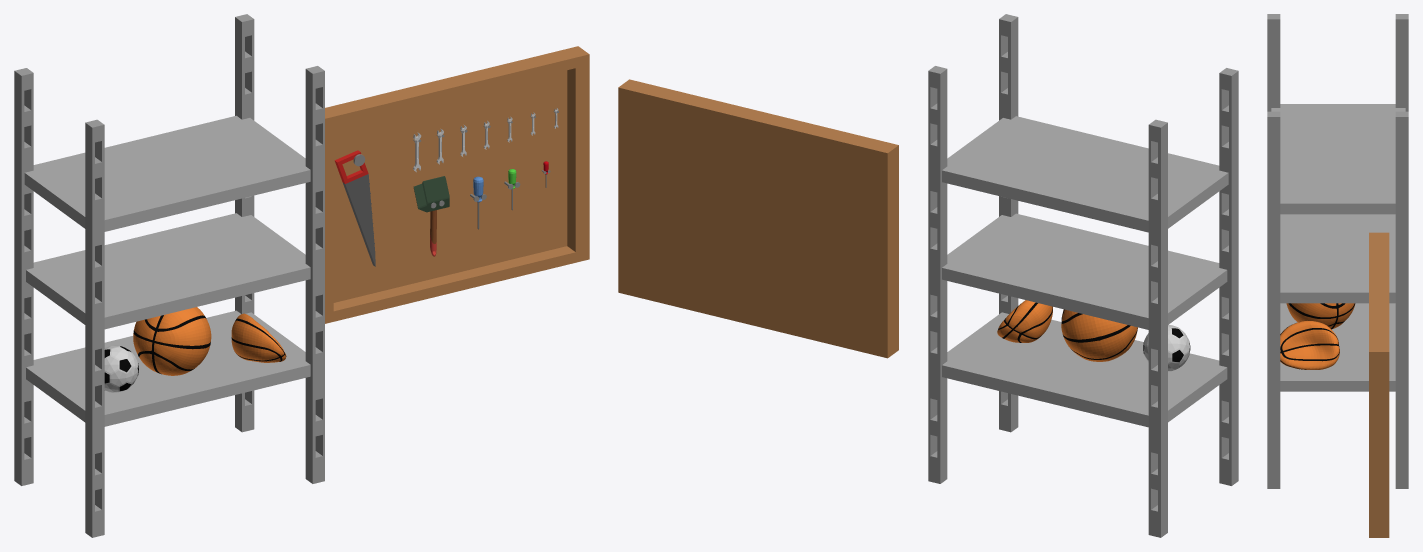
Rendered from Garage.fbx.
3 views of the same model, side by side, from view 1: azimuth 30°, elevation 25°; view 2: azimuth 150°, elevation 25°; view 3: azimuth 270°, elevation 25° (orthographic). The views are drawn at different scales.
Visible parts, largest first — view 1: Armoire, Tableau, Ballon Basket, Scie, Ballon Basket dégonflé, Ballon foot, Marteau, Clés outils; view 2: Armoire, Tableau, Ballon Basket, Ballon Basket dégonflé, Ballon foot; view 3: Armoire, Tableau, Ballon Basket dégonflé, Ballon Basket.
Boxes of the visible parts, x1,y1,x2,y2 form: Armoire: (14, 14, 324, 537); Tableau: (325, 46, 589, 323); Ballon Basket: (133, 307, 211, 375); Scie: (334, 150, 375, 266); Ballon Basket dégonflé: (231, 313, 286, 362); Ballon foot: (104, 345, 138, 392); Marteau: (413, 176, 449, 256); Clés outils: (413, 108, 558, 172); Armoire: (928, 14, 1238, 537); Tableau: (618, 79, 898, 358); Ballon Basket: (1061, 309, 1137, 361); Ballon Basket dégonflé: (997, 300, 1052, 342); Ballon foot: (1143, 324, 1190, 371); Armoire: (1267, 14, 1408, 488); Tableau: (1369, 232, 1389, 537); Ballon Basket dégonflé: (1280, 321, 1339, 369); Ballon Basket: (1286, 303, 1355, 329).
Size of the model in its own units: 452 by 320 by 110.
